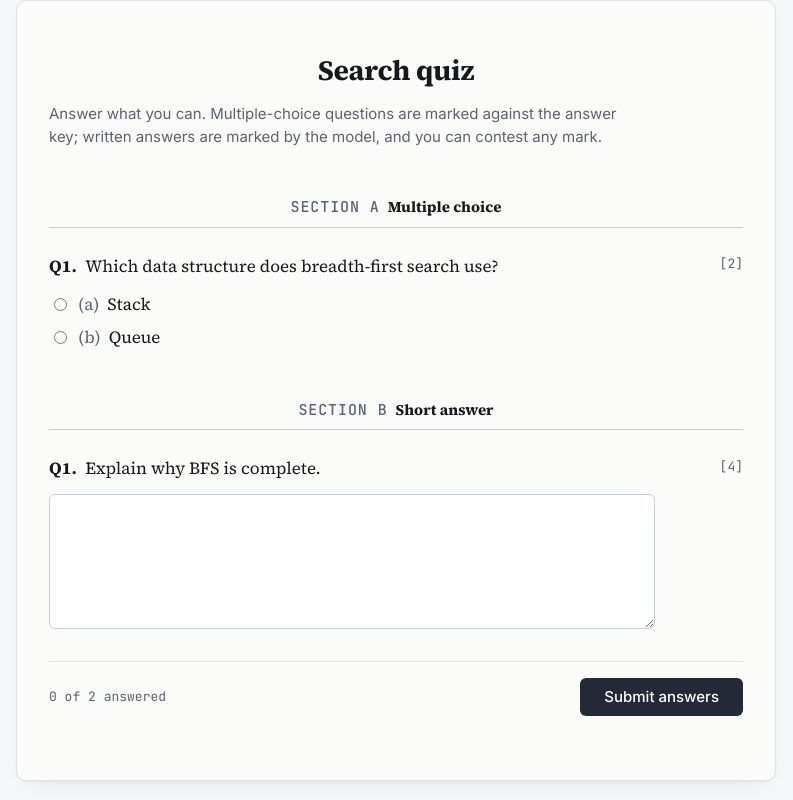
it: AnswerSheet › counts what has been answered
This screenshot has width=793, height=800.
Expected: the text "0 of 2 answered" is shown, [49, 687, 166, 707]
What coordinates should you click on to do the following:
click the radio button labelled "(b) Queue"
I would click on:
 (60, 338)
Its box is [54, 331, 67, 344].
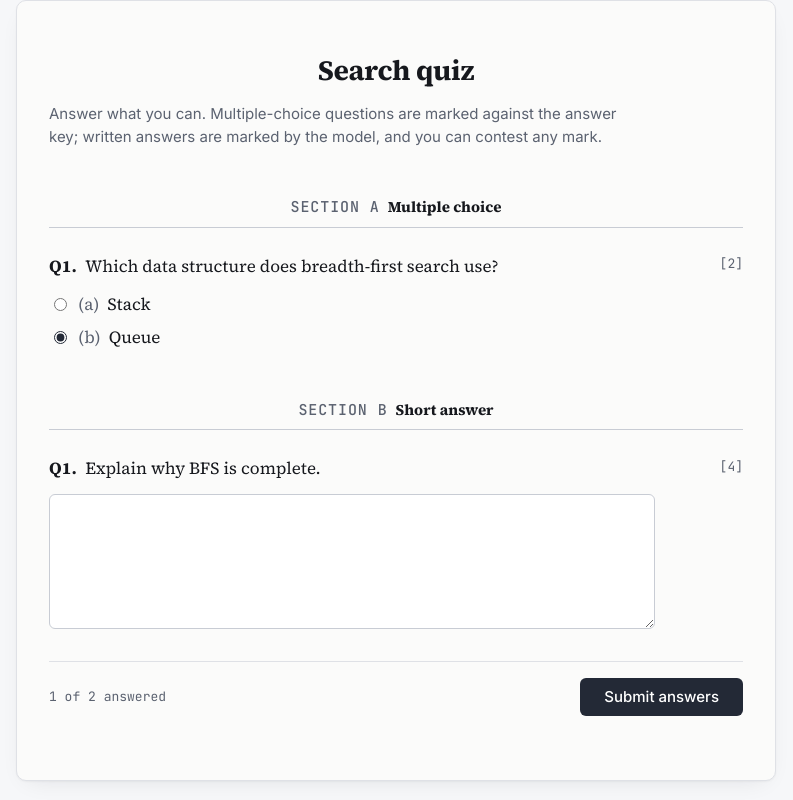
Expected: the text "1 of 2 answered" is shown, [49, 687, 166, 707]
